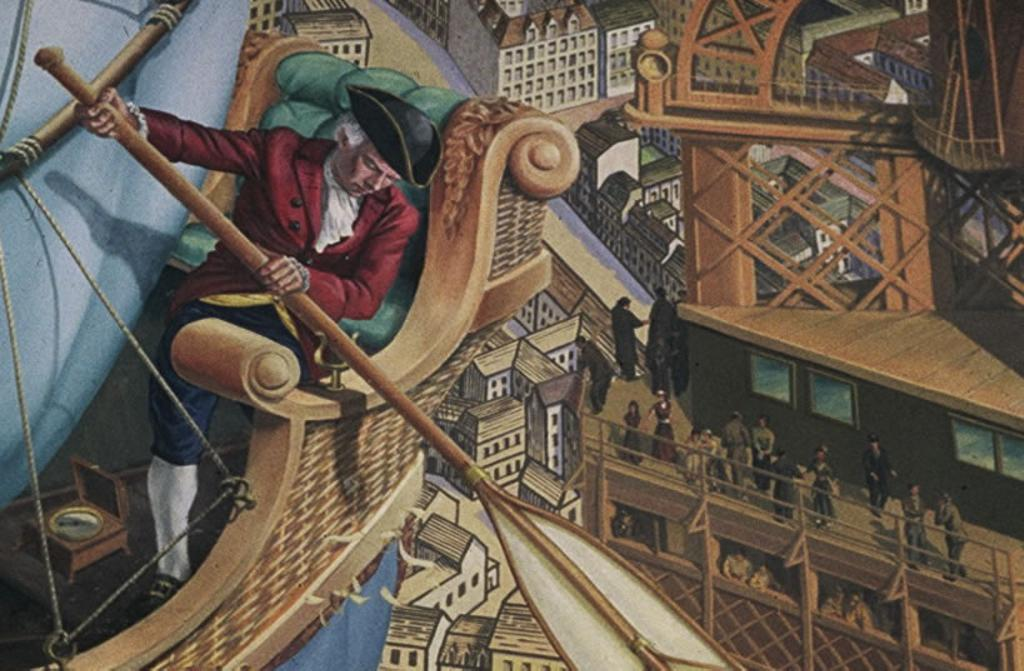face: (345, 145, 403, 205)
